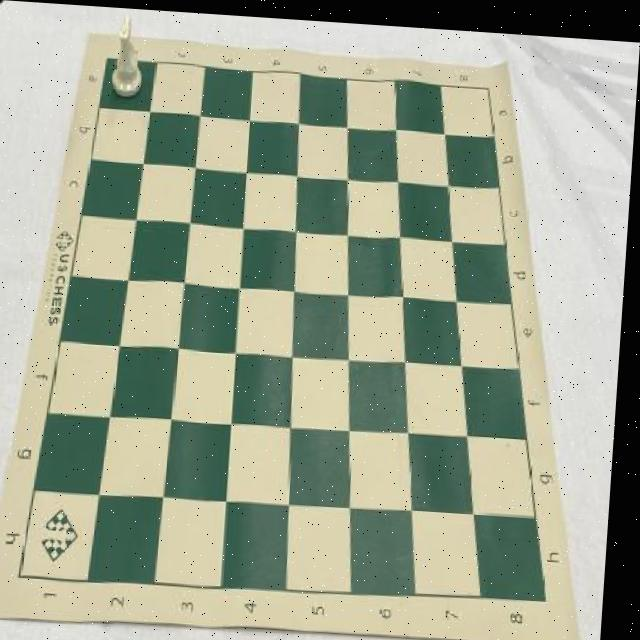white-king: (112, 9, 149, 100)
